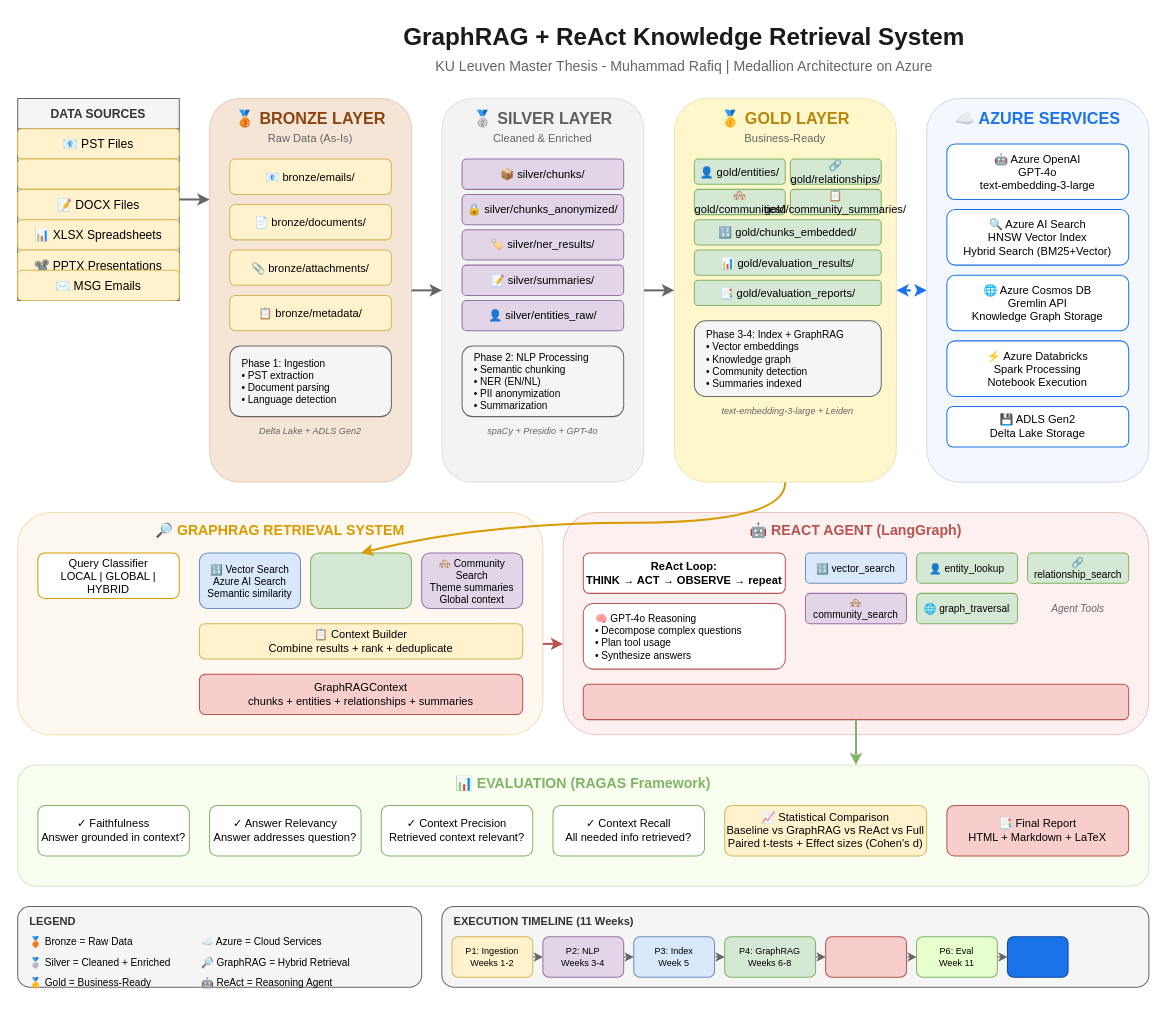
The diagram is 1167 pixels wide and 1009 high, and some of its shapes have lost their labels. The shapes that lost their labels are listed below. From the top down, each one's centre as x and y in pixels, then its label:
At (x=98, y=173): "📄 PDF Documents".
At (x=361, y=580): "🔗 Graph Search Entity lookup Relationship query".
At (x=855, y=701): "Answer + Sources + Reasoning Trace".
At (x=865, y=956): "P5: Agent Weeks 9-10".
At (x=1037, y=956): "📜 Thesis".
